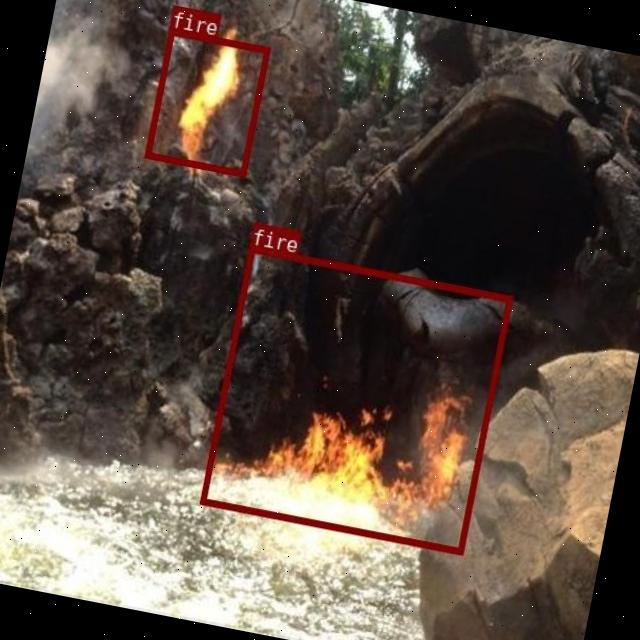fire: (200, 245, 512, 554), (143, 28, 269, 175)
